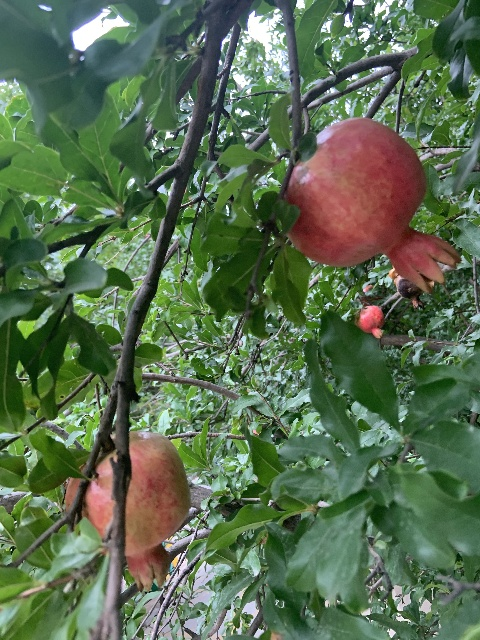ripe: (283, 118, 460, 292), (65, 430, 191, 591), (354, 305, 384, 339)
